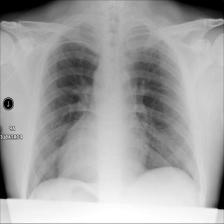normal: (28, 22, 201, 191)
